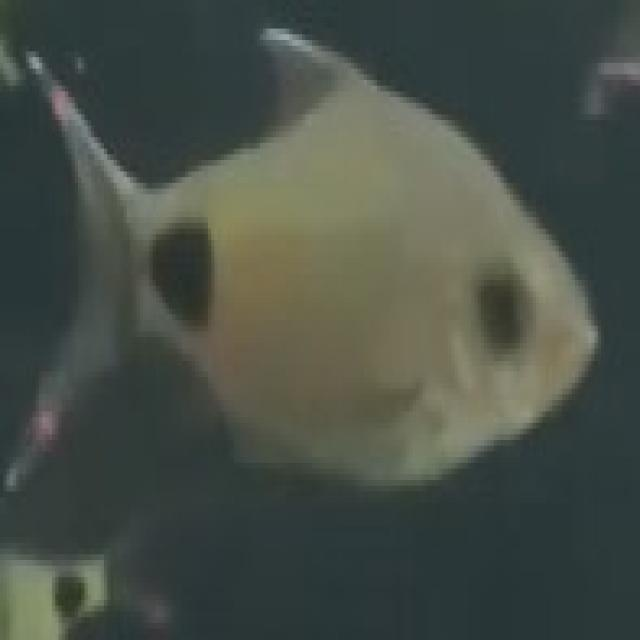Black-Spotted-Barb: (5, 28, 604, 534)
